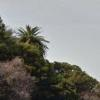Palm tree: (2, 18, 60, 68)
